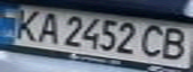2: (115, 19, 142, 56), (57, 14, 84, 48)
4: (78, 16, 103, 52)
5: (100, 17, 121, 53)
A: (33, 10, 63, 45)
B: (154, 25, 193, 62)
C: (136, 22, 172, 58)
K: (6, 7, 45, 42)
